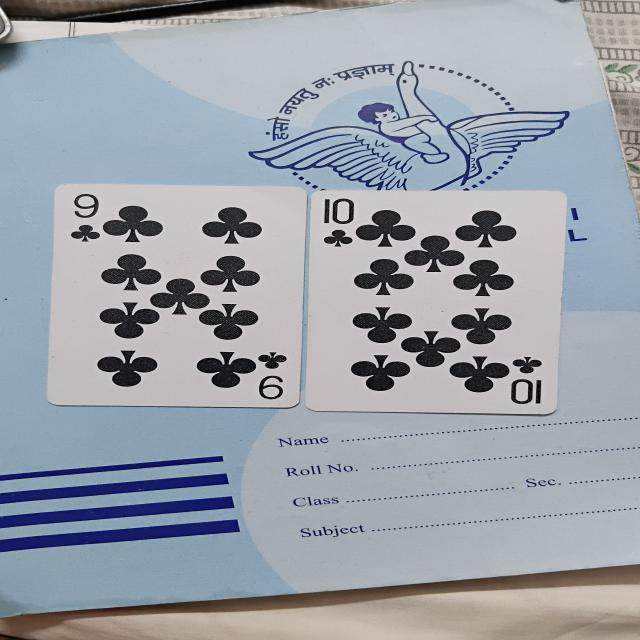10C: (310, 188, 565, 417)
9C: (48, 183, 304, 410)
